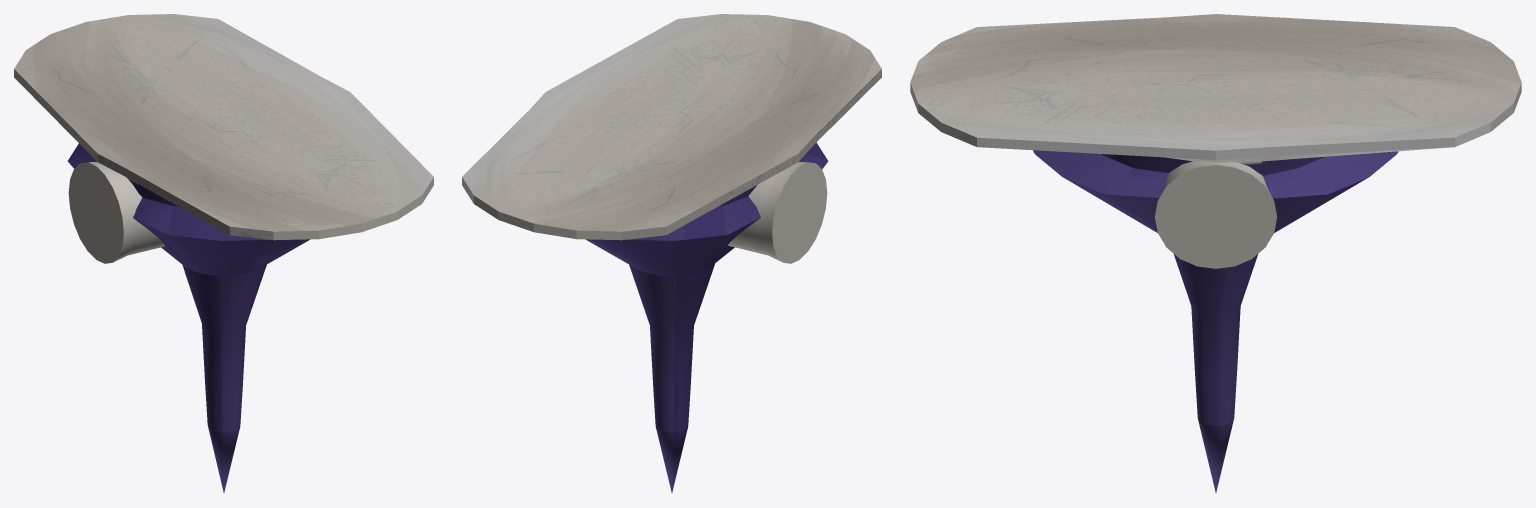
The model's file is vs_statdium_UV.fbx.
The picture shows the model from 3 angles, left to right: view 1: azimuth 30°, elevation 25°; view 2: azimuth 150°, elevation 25°; view 3: azimuth 270°, elevation 25°; orthographic projection. The views are drawn at different scales.
Visible parts, largest first — view 1: pSphere2; view 2: pSphere2; view 3: pSphere2.
Part boxes in pixels (x1,y1,x2,y2): pSphere2: (14,14,433,492); pSphere2: (462,14,881,492); pSphere2: (910,14,1521,492).
Size of the model in its own units: 71.17 by 98.83 by 133.
